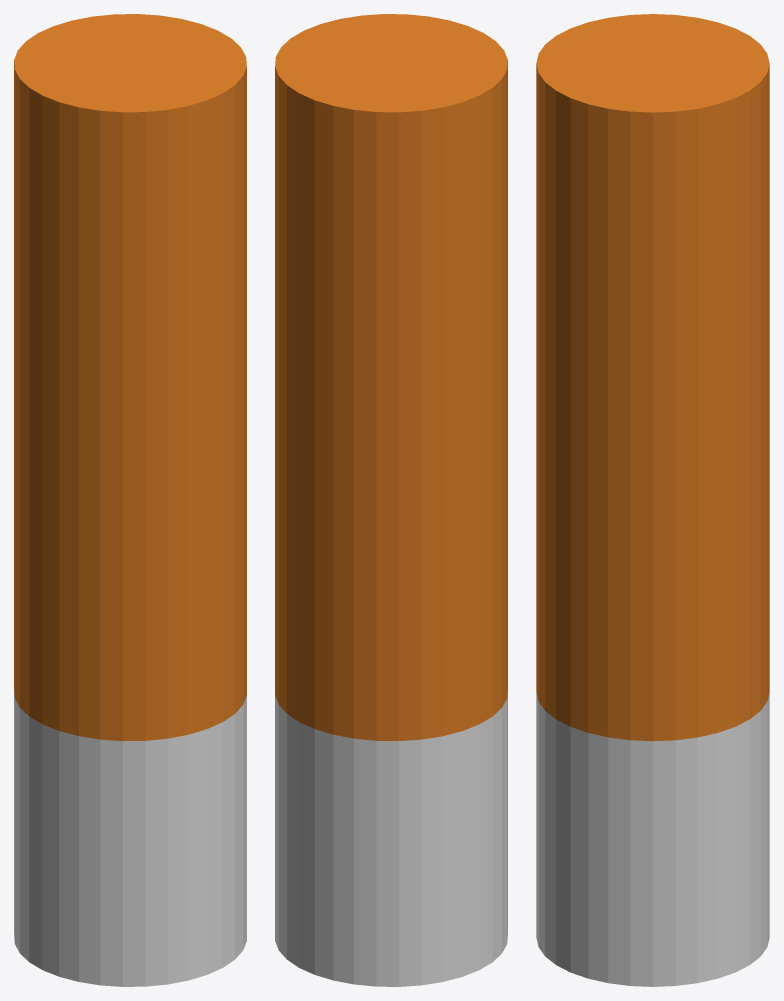
File: CigaretteBud.glb
3 views of the same model, side by side, from view 1: azimuth 30°, elevation 25°; view 2: azimuth 150°, elevation 25°; view 3: azimuth 270°, elevation 25° (orthographic).
Parts seen in each view (by area): view 1: Cylinder; view 2: Cylinder; view 3: Cylinder.
Part boxes in pixels (<box>): Cylinder: <box>14,14,246,986</box>; Cylinder: <box>275,14,507,986</box>; Cylinder: <box>536,14,769,986</box>.
Bounding box in the file's own units: 0.0414 × 0.1711 × 0.0414.
